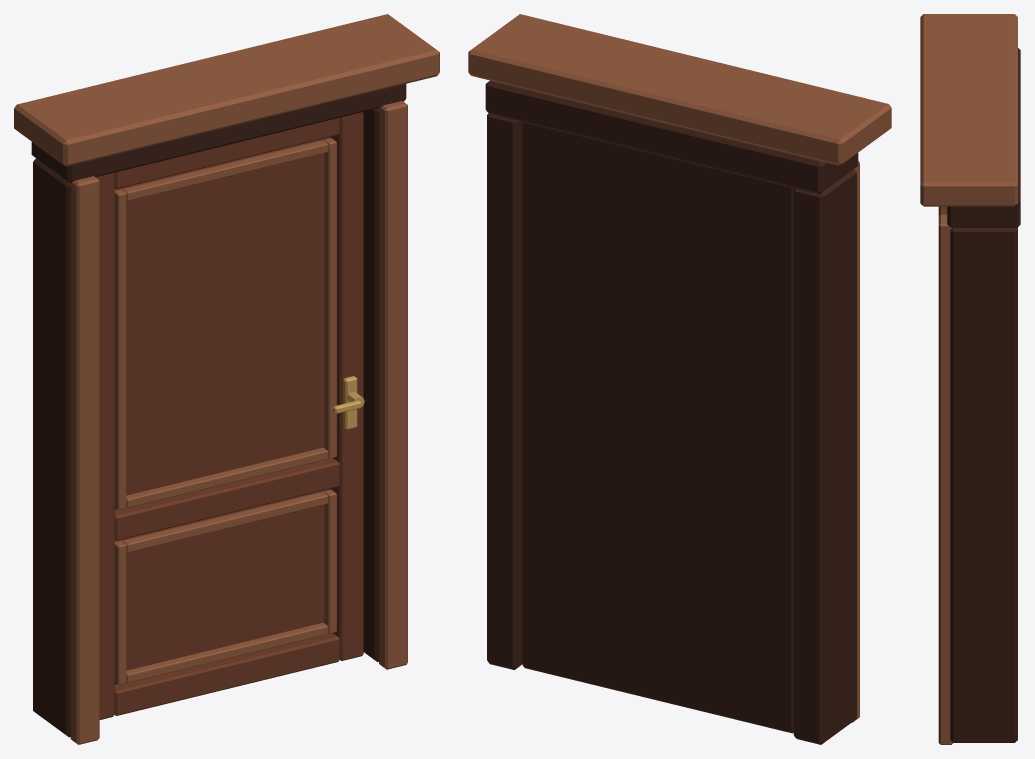
File: heavy_security_door.glb
3 views of the same model, side by side, from view 1: azimuth 30°, elevation 25°; view 2: azimuth 150°, elevation 25°; view 3: azimuth 270°, elevation 25° (orthographic). The views are drawn at different scales.
Parts seen in each view (by area): view 1: Panel_0_1_Field, Cornice, Panel_0_0_Field, Jamb__1, Jamb_moulding__1, Jamb_moulding_1, Leaf_stile_0_1, Jamb_1, Leaf_stile_0__1, Leaf_crossrail_0_0_71, Leaf_crossrail_0_0_048, Lintel (+9 smaller); view 2: Leaf_0, Jamb__1, Cornice, Jamb_1, Lintel, Jamb_moulding__1; view 3: Jamb_1, Cornice, Jamb_moulding_1, Lintel.
Boxes of the visible parts, <box> form: Panel_0_1_Field: <box>114,137,330,495</box>; Cornice: <box>14,14,439,166</box>; Panel_0_0_Field: <box>114,489,330,670</box>; Jamb__1: <box>33,158,71,737</box>; Jamb_moulding__1: <box>70,176,99,744</box>; Jamb_moulding_1: <box>379,101,407,669</box>; Leaf_stile_0_1: <box>333,112,363,660</box>; Jamb_1: <box>363,108,379,661</box>; Leaf_stile_0__1: <box>96,172,114,719</box>; Leaf_crossrail_0_0_71: <box>114,458,339,540</box>; Leaf_crossrail_0_0_048: <box>114,633,339,715</box>; Lintel: <box>31,84,406,183</box>; Leaf_0: <box>522,122,794,733</box>; Jamb__1: <box>793,169,856,744</box>; Cornice: <box>468,14,891,165</box>; Jamb_1: <box>487,113,522,669</box>; Lintel: <box>485,80,858,193</box>; Jamb_moulding__1: <box>852,161,859,722</box>; Jamb_1: <box>950,227,1017,742</box>; Cornice: <box>920,14,1017,206</box>; Jamb_moulding_1: <box>938,214,952,744</box>; Lintel: <box>947,48,1020,227</box>.
Bounding box in the file's own units: 1.49 × 2.33 × 0.37.
